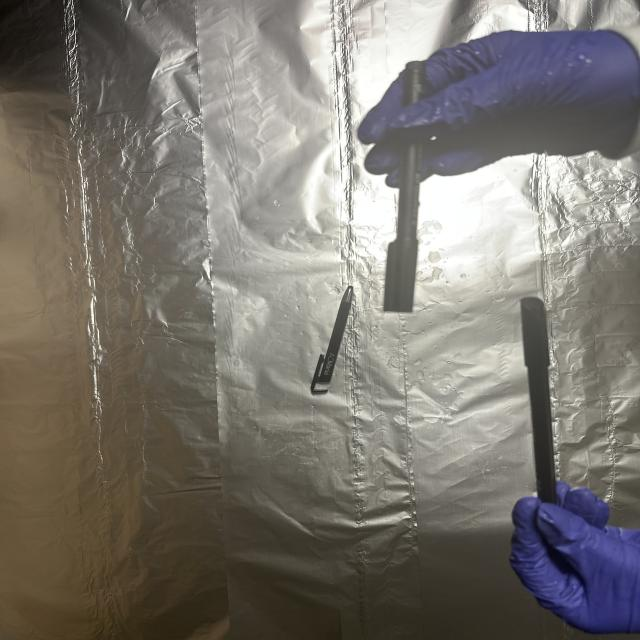gloves_contaminated: (358, 28, 640, 187), (510, 482, 640, 634)
